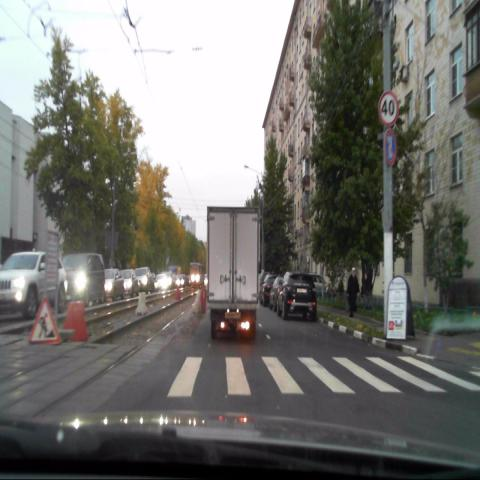3_30: (384, 127, 397, 166)
